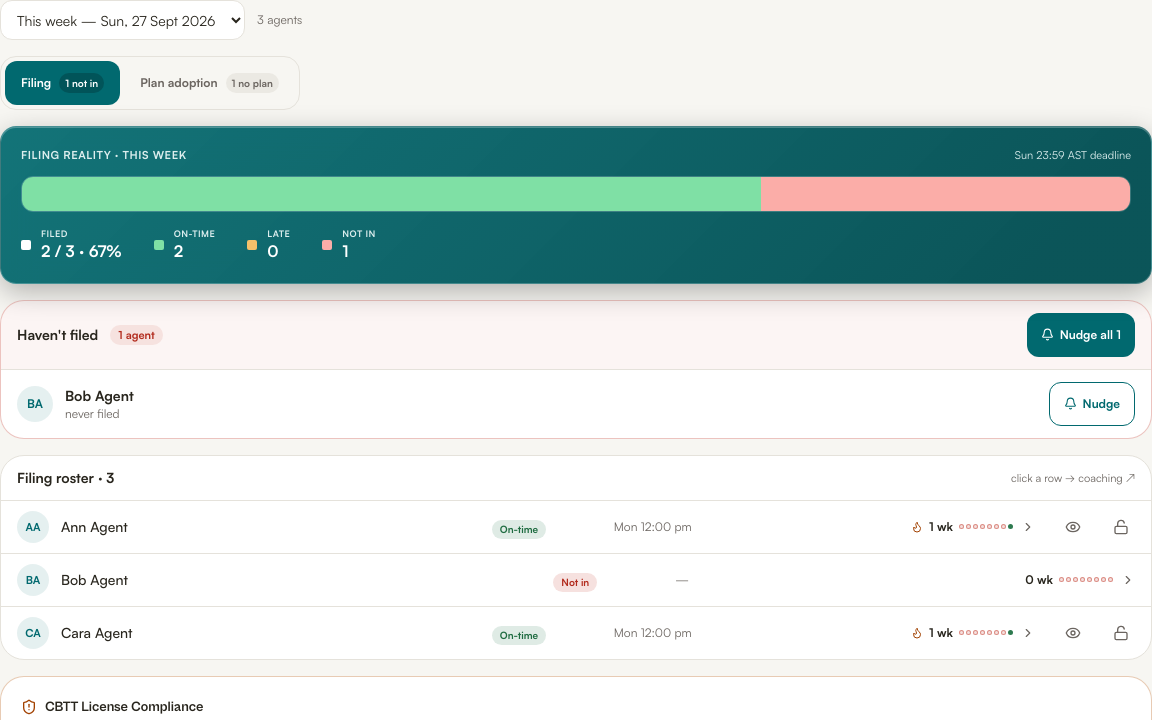
Test: CompliancePanel — S3 plan-adoption lens › toggle to plan: plan bar + "Haven't committed a plan" + agentC exception; roster/CBTT hidden
Expected: the element with test id "compliance-reality-bar" is shown, [0,126,1151,284]
Click the button with test id "compliance-lens-plan": coordinates (210, 83) [124,61,295,105]
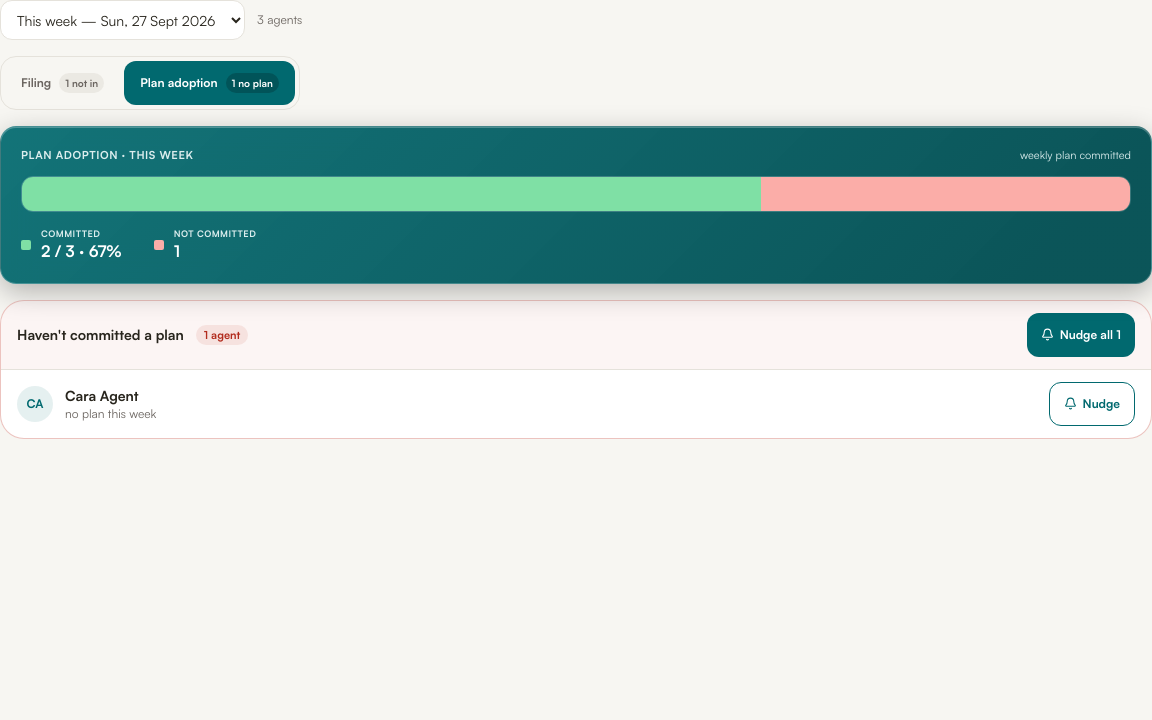
Now the element with test id "compliance-stat-committed" is shown, box [21,228,122,263]
Now the element with test id "compliance-stat-filed" is gone
Now the text "Haven't committed a plan" is shown, box [17,325,184,345]
